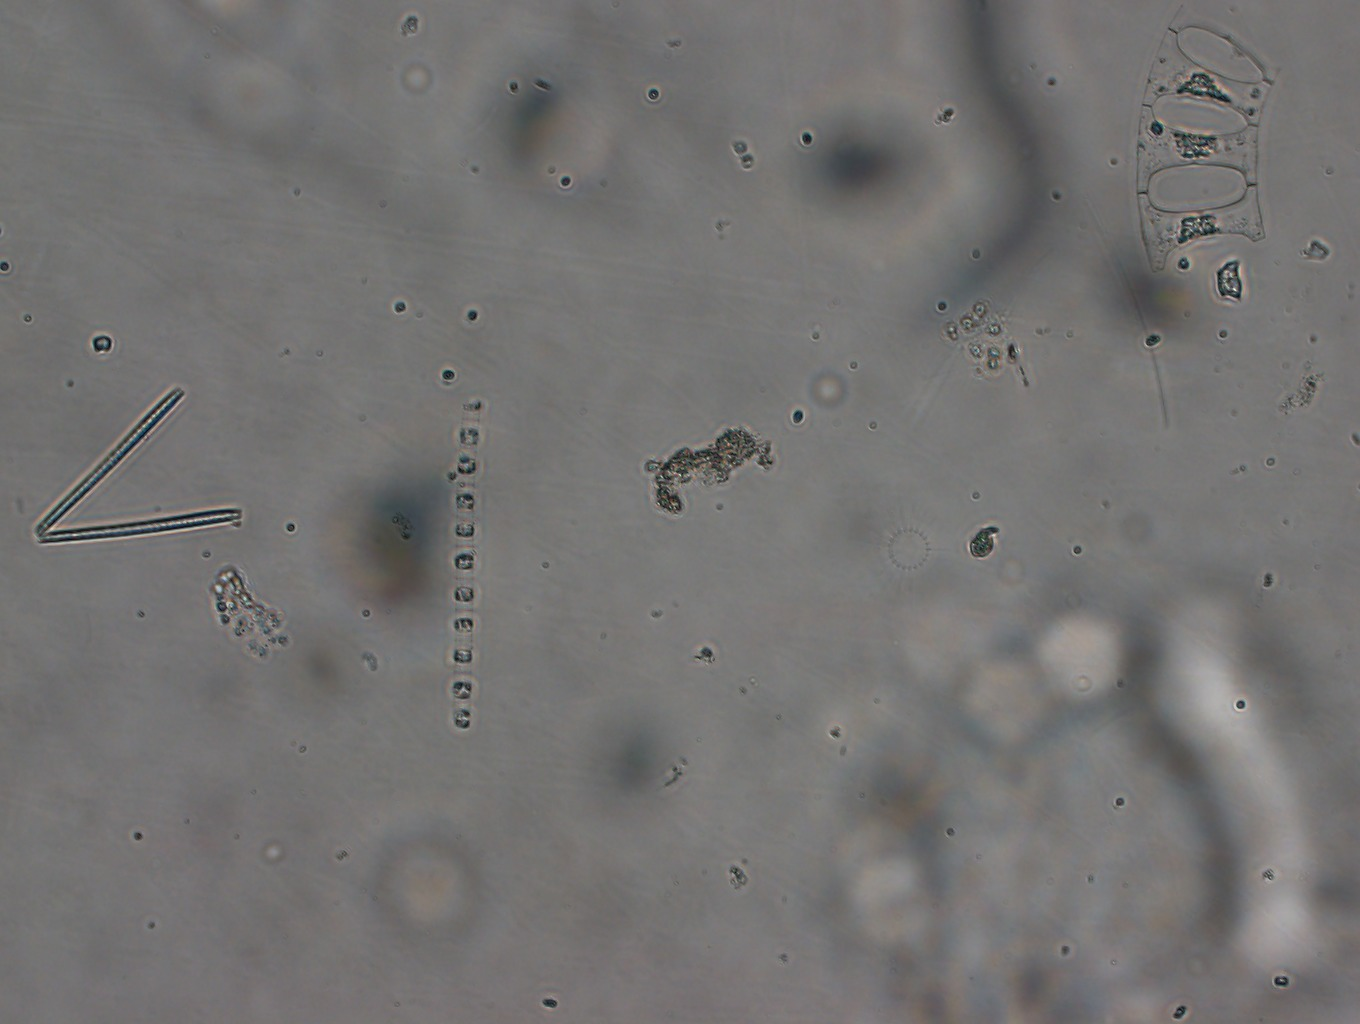eucampia: (1125, 2, 1297, 276)
skeletonema: (423, 386, 509, 748)
thalassionema nitzschioides: (24, 379, 246, 547)
